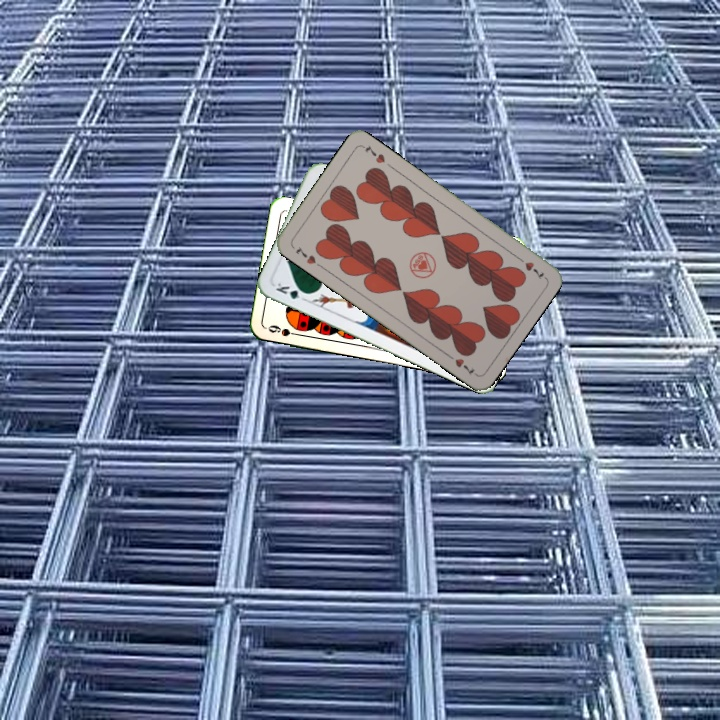GK: (272, 279, 311, 304)
H7: (512, 252, 547, 282), (291, 243, 325, 270)
S9: (264, 321, 304, 339)
